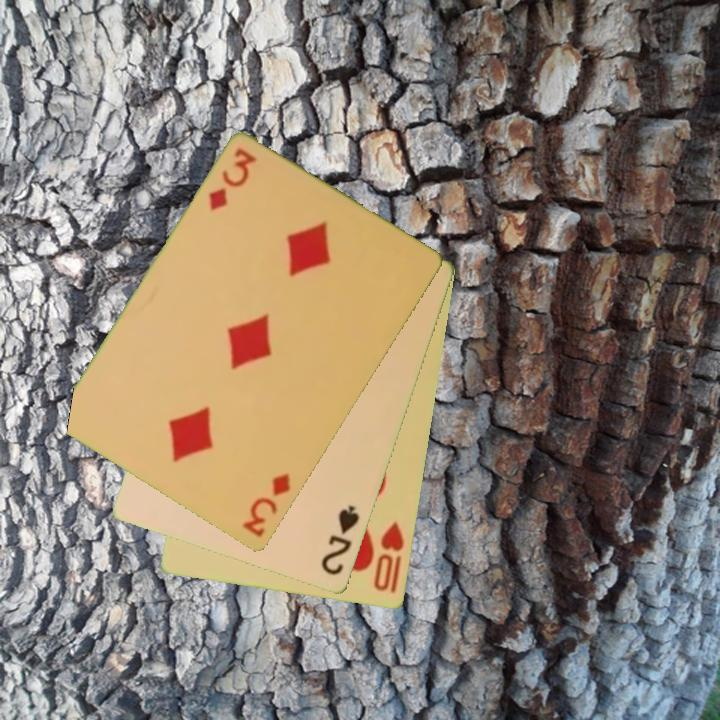10h: (370, 518, 408, 597)
2s: (318, 502, 363, 579)
3d: (238, 470, 294, 541), (205, 145, 260, 214)
